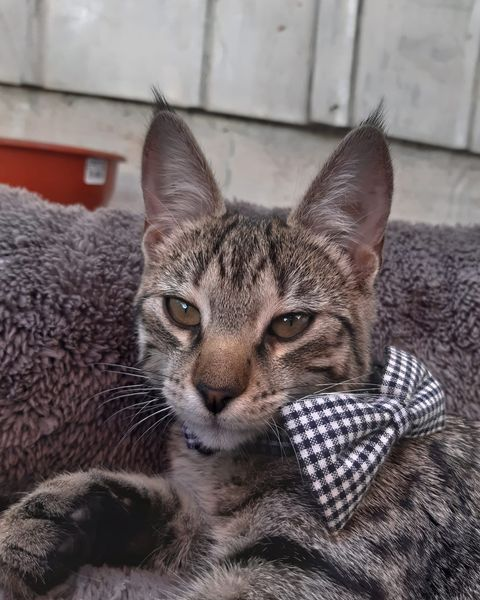cat: (15, 81, 479, 585)
